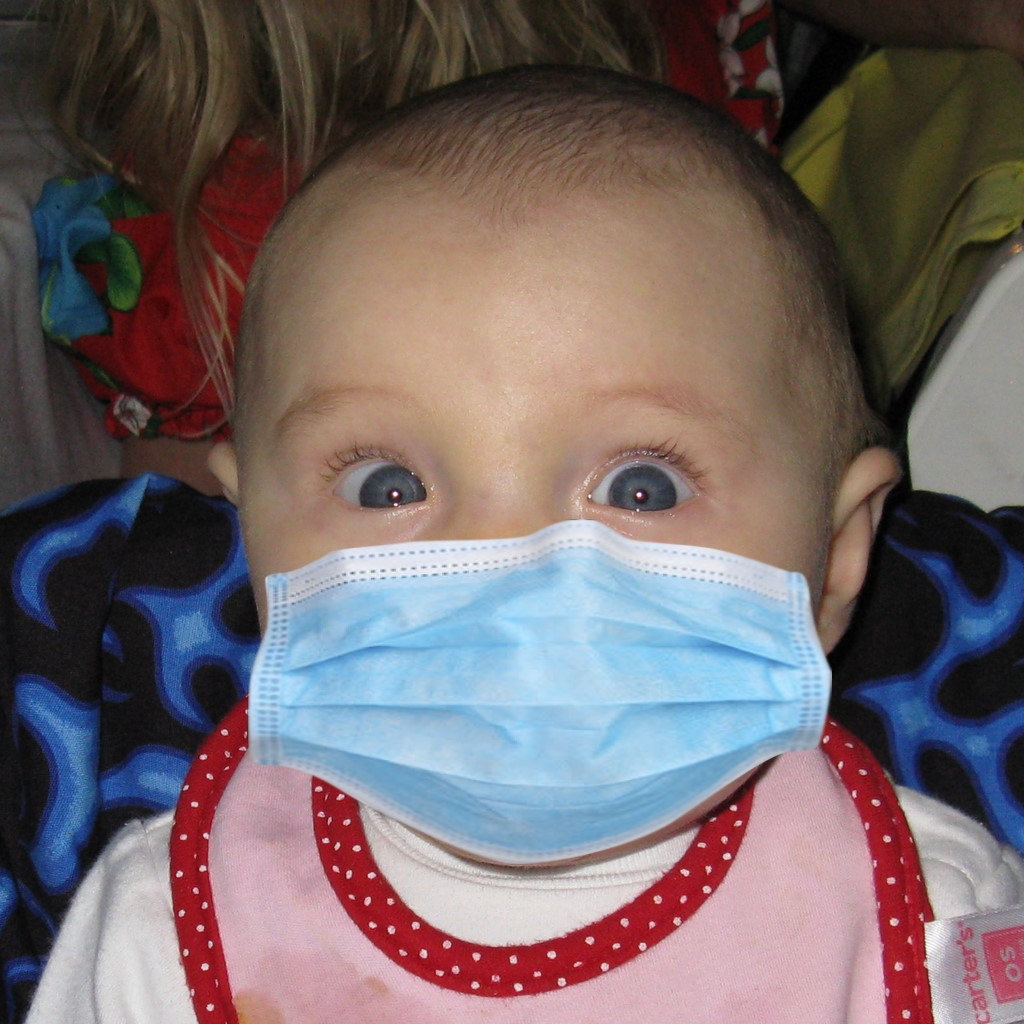con_mascara: (229, 77, 887, 884)
